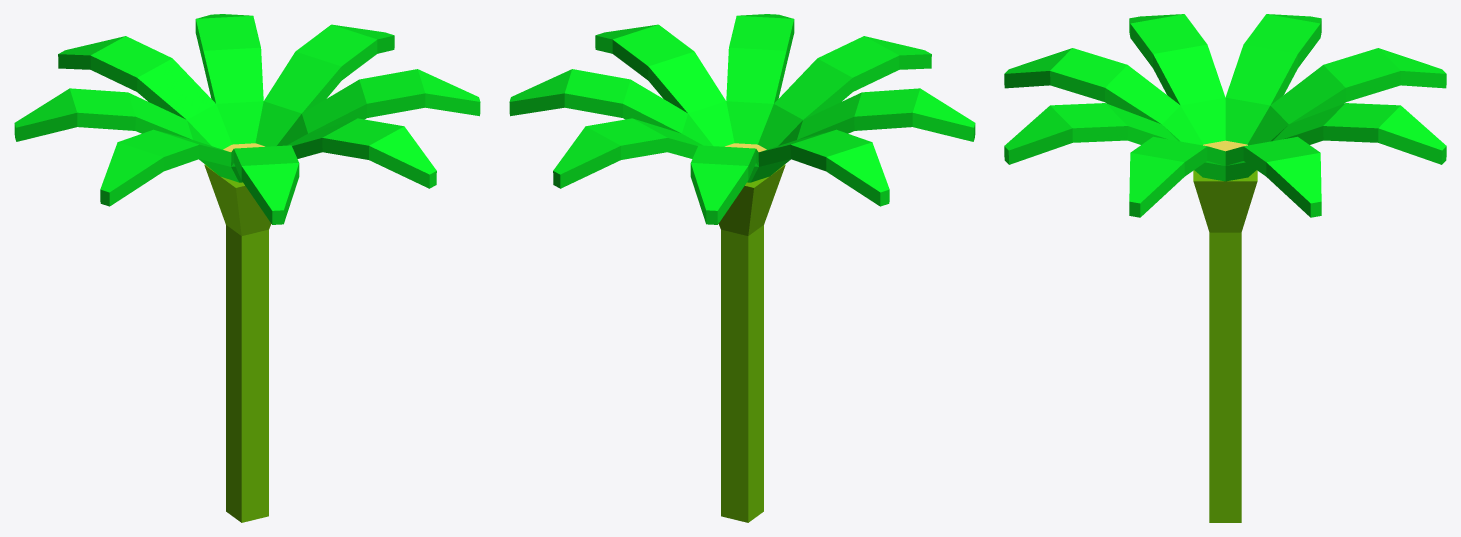
Rendered from Flower_G.fbx.
3 views of the same model, side by side, from view 1: azimuth 30°, elevation 25°; view 2: azimuth 150°, elevation 25°; view 3: azimuth 270°, elevation 25° (orthographic).
Parts seen in each view (by area): view 1: Flower_01_Bloom; view 2: Flower_01_Bloom; view 3: Flower_01_Bloom.
Boxes of the visible parts, x1=… form: Flower_01_Bloom: x1=14, y1=14, x2=480, y2=522; Flower_01_Bloom: x1=509, y1=14, x2=975, y2=522; Flower_01_Bloom: x1=1004, y1=14, x2=1446, y2=522.
Bounding box in the file's own units: 16.58 × 17.7 × 16.58.
Materials: 1 (1 with a texture image).
